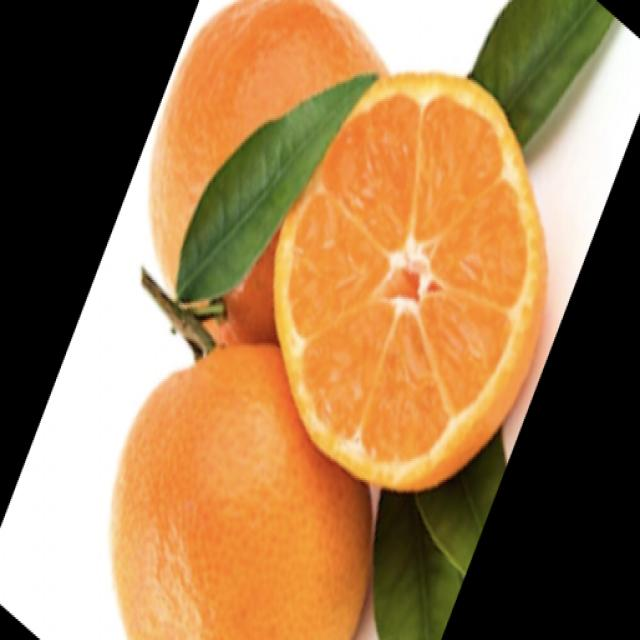fresh: (86, 9, 556, 640)
